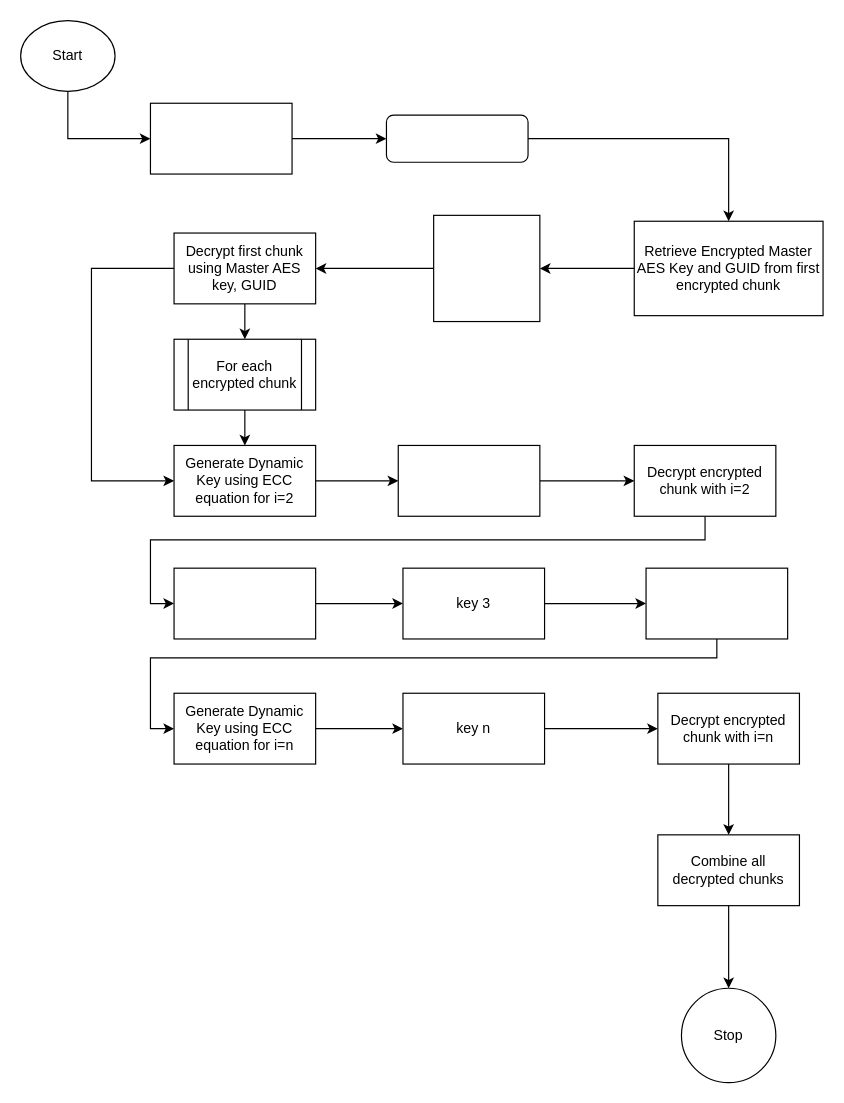
Image size: 844x1103. Some labels were removed from this diagram. Each missing label, with the centre of its shape:
"Decrypt encrypted chunk with i=3" belongs at (716,603).
"Decrypt master AES key using RSA Private key" belongs at (486,268).
"Generate Dynamic Key using ECC equation for i=3" belongs at (244,603).
"key 2" belongs at (468,480).
"Read the encrypted video chunks" belongs at (456,138).
"Retrieve RSA Private Key" belongs at (220,138).
